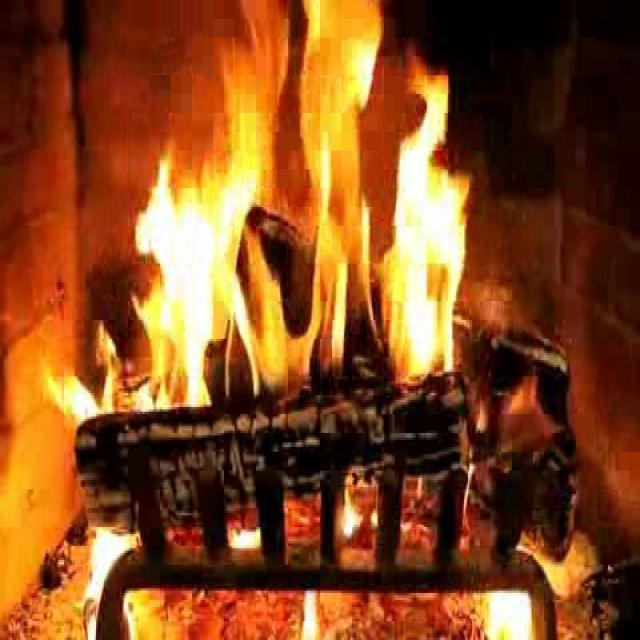Fire: (128, 5, 489, 401)
